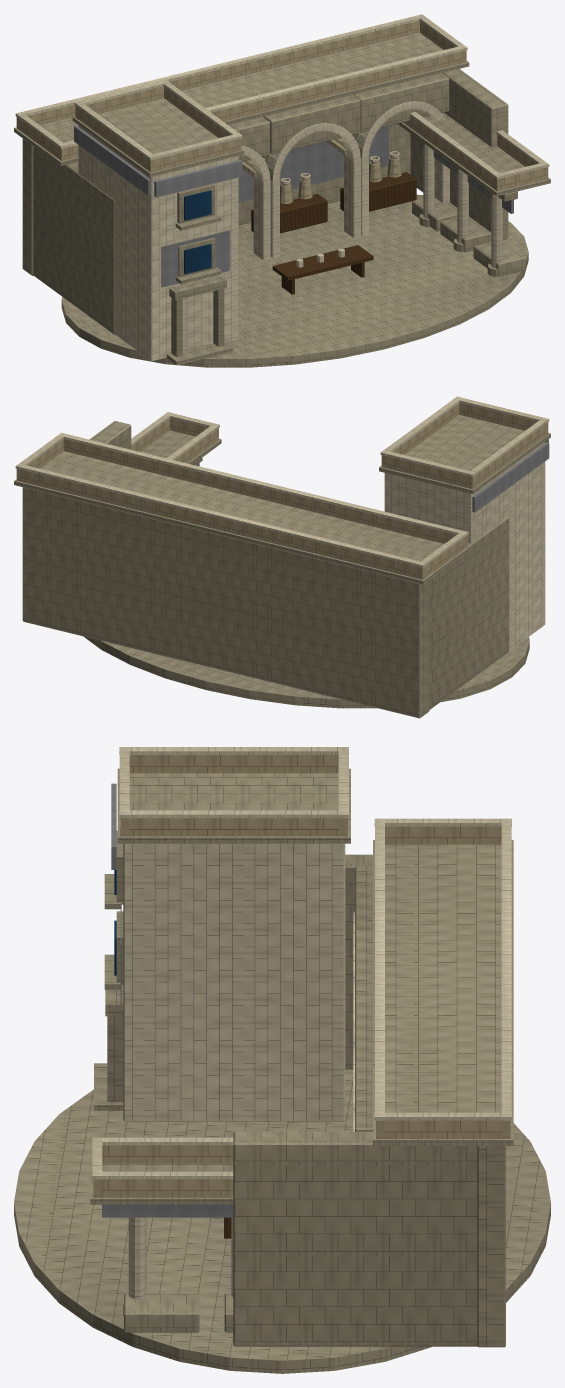
Rendered from scriptorium-israelite.glb.
The picture shows the model from 3 angles, top to bottom: view 1: azimuth 30°, elevation 25°; view 2: azimuth 150°, elevation 25°; view 3: azimuth 270°, elevation 25°; orthographic projection. The views are drawn at different scales.
Parts seen in each view (by area): view 1: LOD0; view 2: LOD0; view 3: LOD0.
Part boxes in pixels (x1,y1,x2,y2): LOD0: (14,14,550,367); LOD0: (14,396,550,718); LOD0: (14,747,550,1373).
Size of what is drawn, in the model's own units: 1.86 by 0.884 by 1.33.
2 materials, 2 textured.
